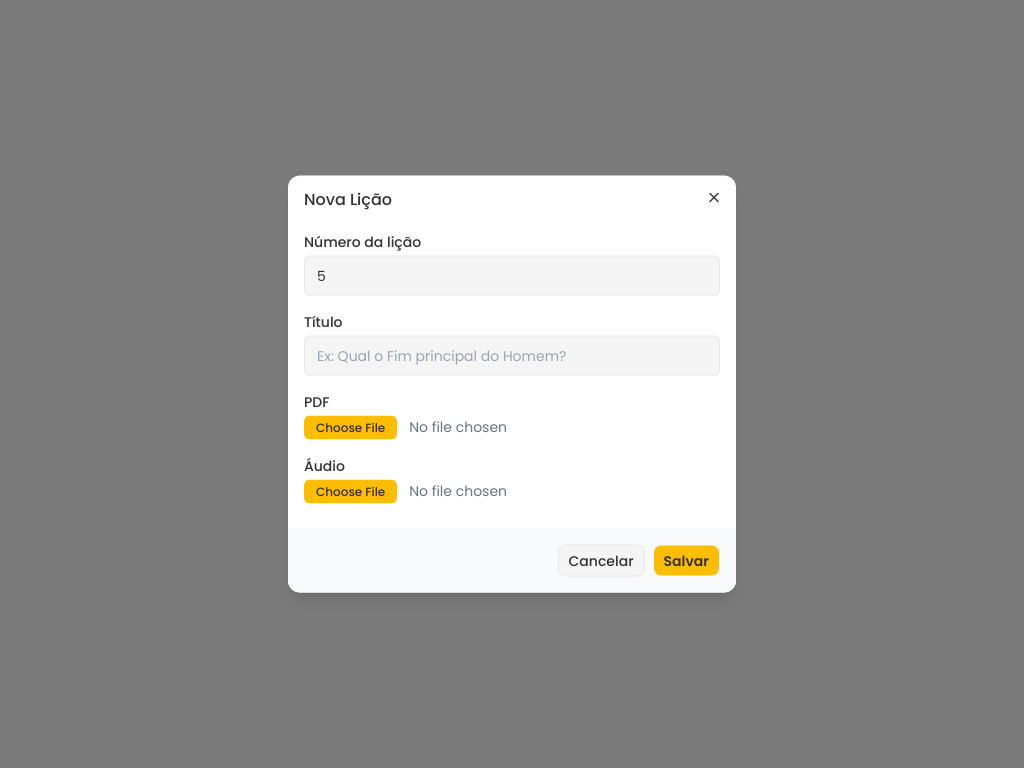
Test: CreateLessonDialog › shows inline error message when id already exists (409)
In the field labelled "Título": {"x": 512, "y": 356} [304, 336, 720, 376], type "Minha Lição"
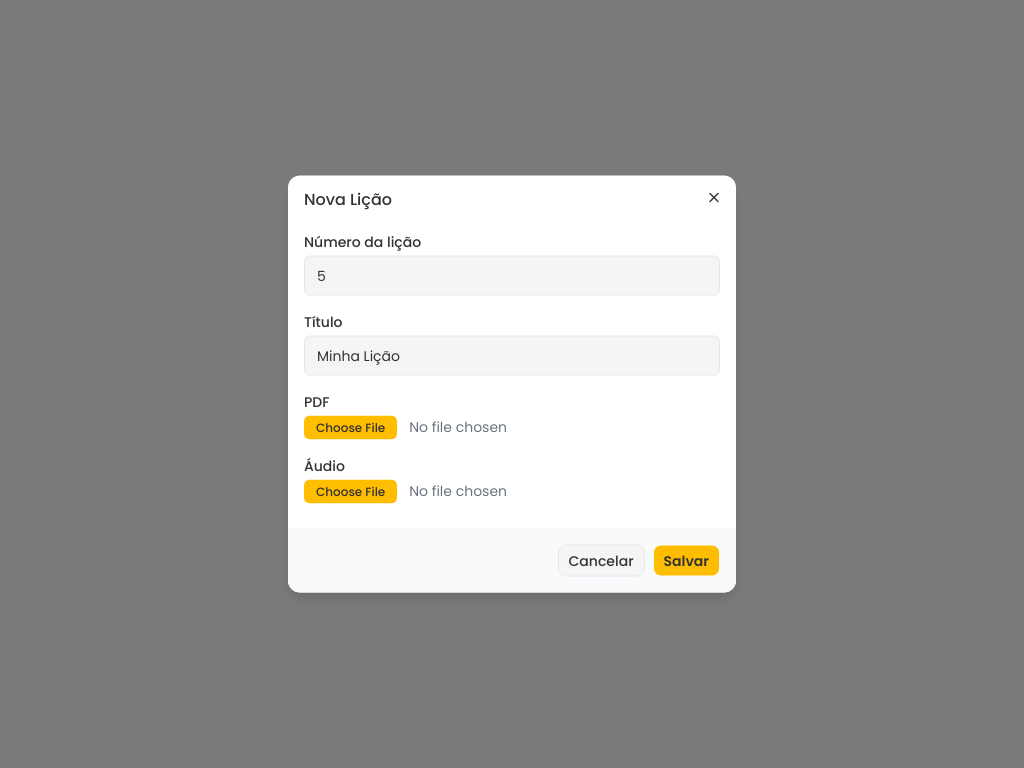
Click the button "Salvar": {"x": 686, "y": 560} [652, 544, 720, 576]
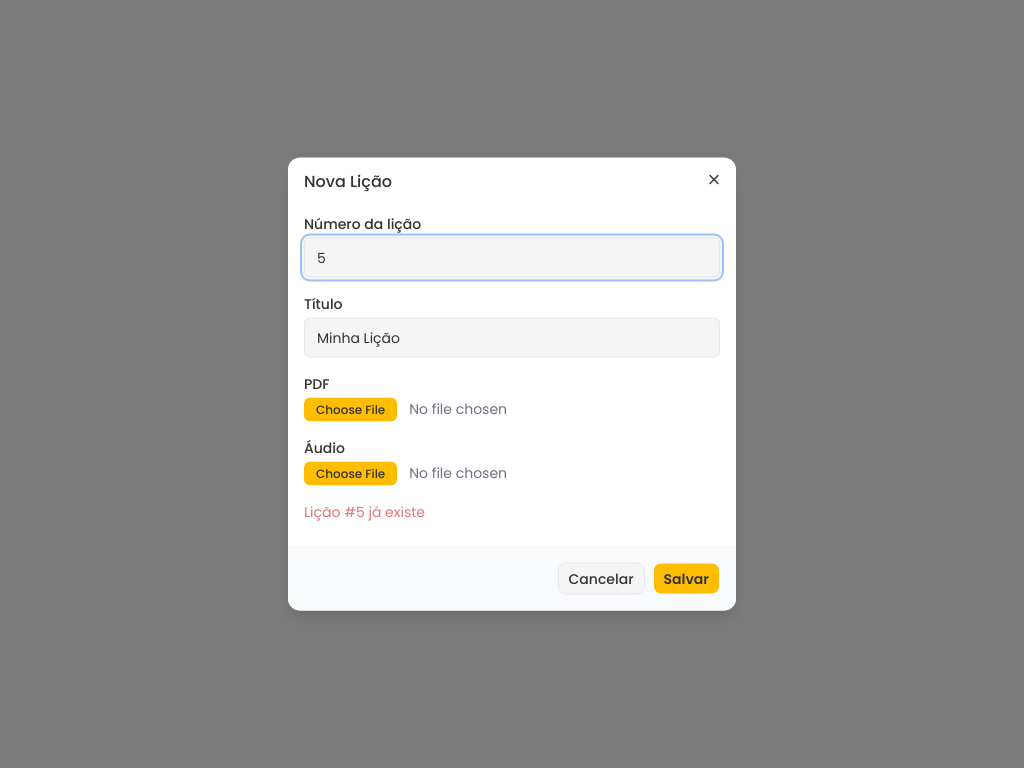
Expected: the text "Lição #5 já existe" is shown, [304, 502, 425, 522]
